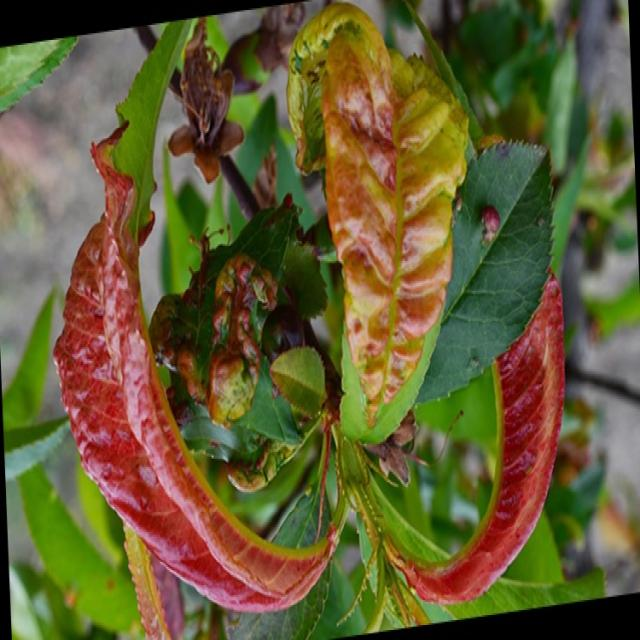peach_leaf_curl: (51, 120, 343, 615), (386, 264, 566, 605)
